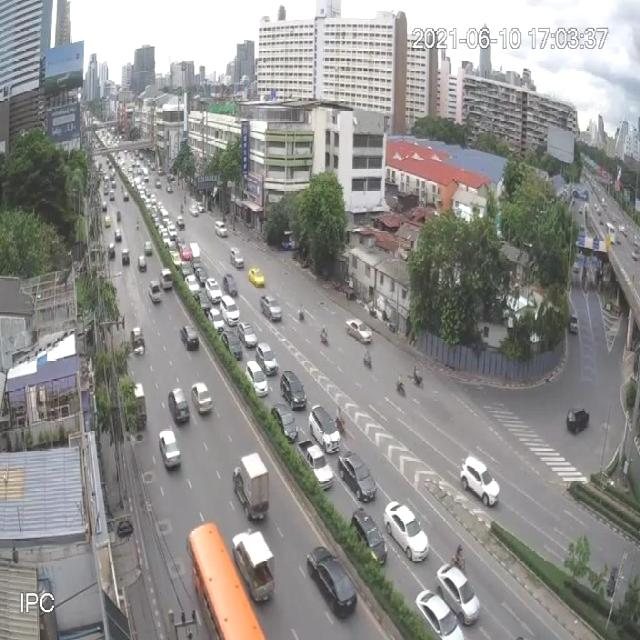Bus: (185, 523, 266, 640)
Car: (304, 544, 356, 617), (232, 528, 276, 604), (436, 562, 480, 626), (384, 501, 429, 561), (414, 588, 464, 640), (350, 508, 386, 567), (461, 454, 500, 507), (338, 448, 377, 501), (298, 440, 334, 490), (308, 404, 341, 453), (270, 402, 298, 441), (280, 369, 306, 408), (159, 428, 181, 470), (246, 360, 269, 397), (168, 386, 190, 424), (255, 342, 278, 375), (345, 319, 373, 346), (190, 381, 212, 415), (220, 328, 243, 359), (132, 384, 147, 429), (566, 407, 590, 434), (260, 294, 282, 323), (220, 294, 239, 326), (237, 320, 258, 348), (180, 324, 199, 352), (206, 306, 225, 334), (205, 278, 222, 305), (196, 289, 213, 314), (222, 273, 238, 298), (184, 274, 200, 299), (131, 326, 145, 354), (248, 266, 265, 288), (229, 246, 244, 268), (192, 266, 208, 286), (160, 267, 173, 291), (149, 280, 162, 302), (179, 260, 193, 279), (214, 220, 228, 238), (189, 242, 200, 264), (180, 245, 192, 262), (568, 315, 578, 334), (162, 232, 172, 251), (172, 251, 182, 269), (168, 223, 177, 242), (138, 254, 147, 272), (144, 239, 153, 255), (122, 248, 130, 265), (189, 204, 199, 217), (176, 214, 185, 228), (114, 228, 122, 242), (108, 242, 115, 258), (104, 215, 112, 228), (197, 202, 205, 214), (101, 200, 108, 212), (166, 183, 173, 193), (109, 190, 115, 201), (116, 210, 122, 221), (123, 191, 129, 201), (155, 178, 161, 188), (167, 174, 174, 182)
Truck: (232, 452, 272, 522)
